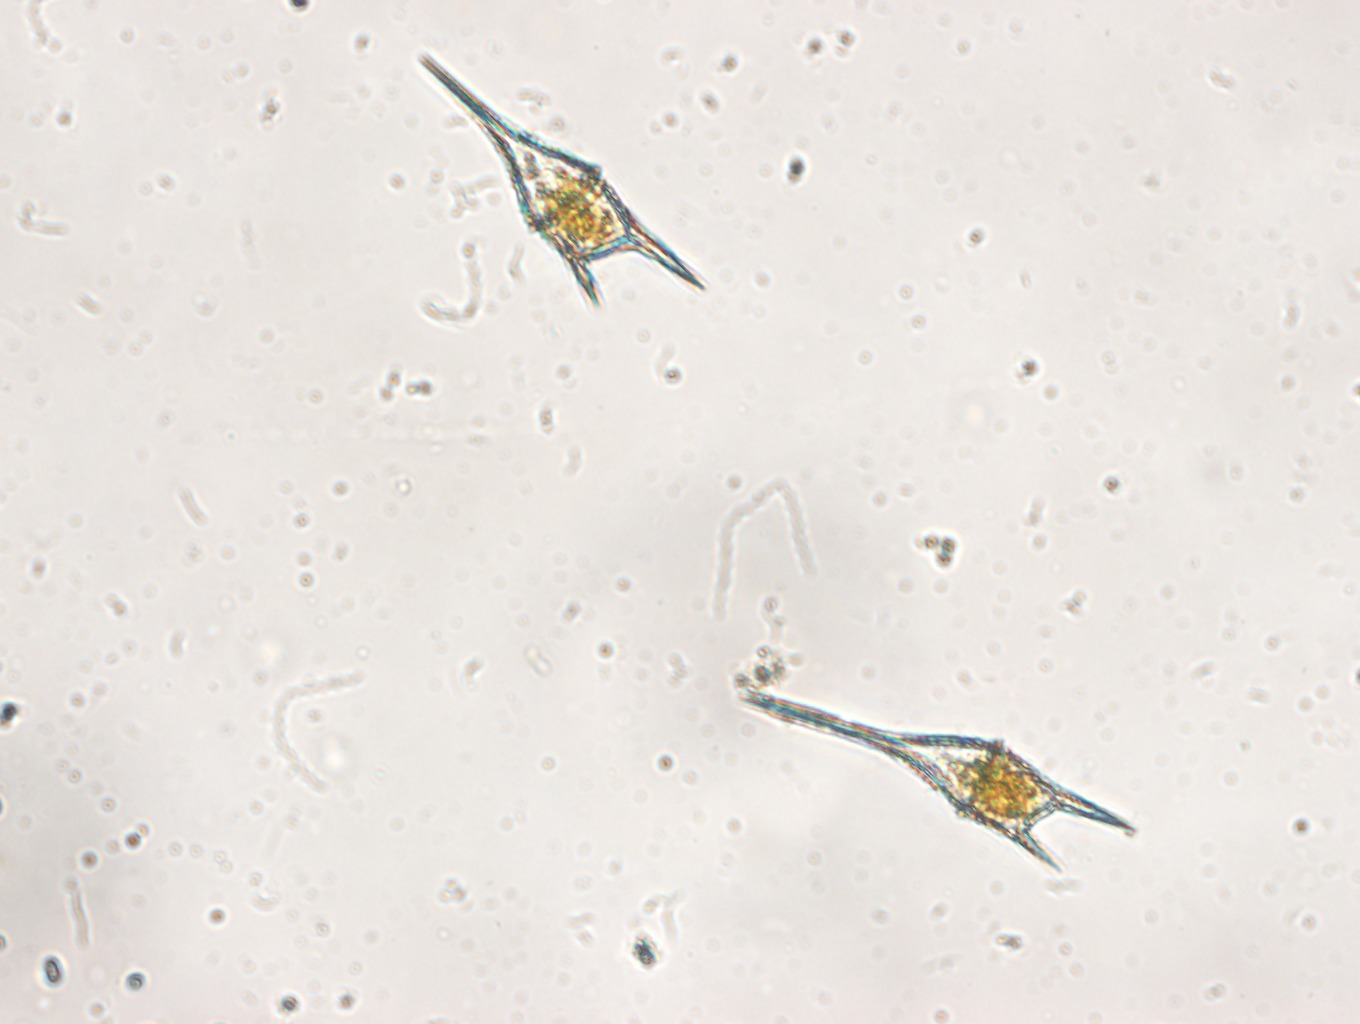ceratium furca: (734, 681, 1140, 878), (413, 52, 712, 313)
